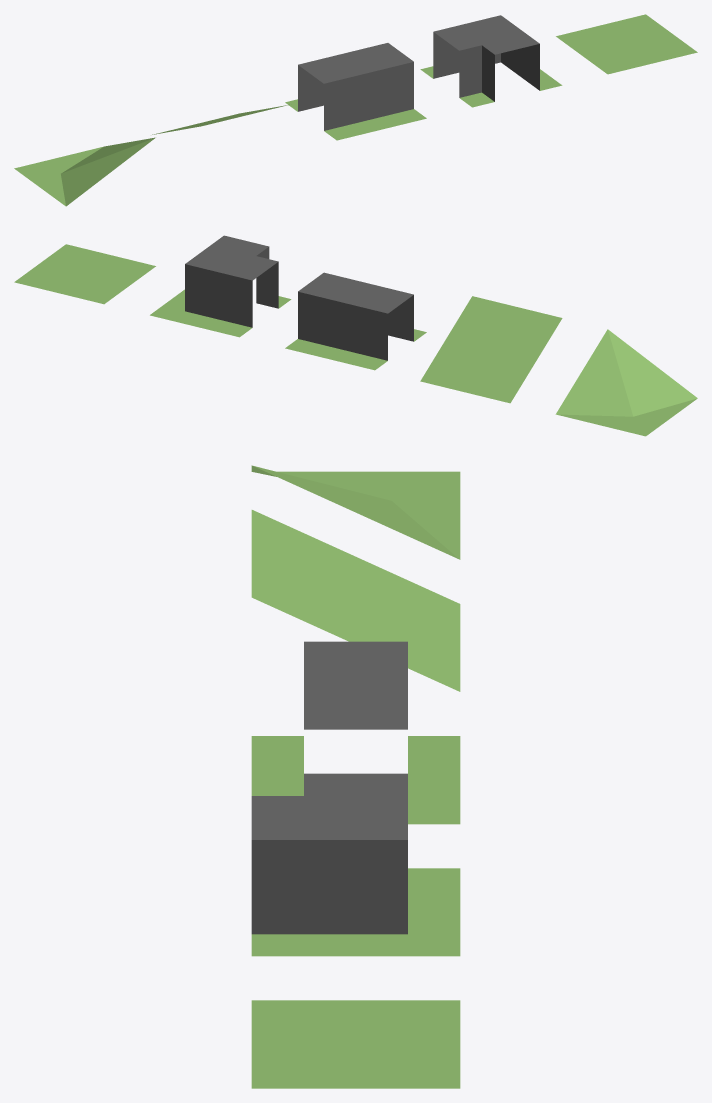
Rendered from Level_Tiles.glb.
3 views of the same model, one above another, from view 1: azimuth 30°, elevation 25°; view 2: azimuth 150°, elevation 25°; view 3: azimuth 270°, elevation 25° (orthographic). The views are drawn at different scales.
Parts seen in each view (by area): view 1: WallStraight, Corner, Floor, SlopeCorner, SlopeStraight; view 2: SlopeStraight, WallStraight, SlopeCorner, Corner, Floor; view 3: Corner, Floor, SlopeStraight, WallStraight, SlopeCorner.
Part boxes in pixels (<box>): WallStraight: <box>285,43,426,140</box>; Corner: <box>420,15,562,107</box>; Floor: <box>556,14,697,74</box>; SlopeCorner: <box>14,137,155,206</box>; SlopeStraight: <box>152,104,289,134</box>; SlopeStraight: <box>420,296,562,403</box>; WallStraight: <box>285,272,426,370</box>; SlopeCorner: <box>555,329,697,436</box>; Corner: <box>150,235,291,337</box>; Floor: <box>14,244,155,304</box>; Corner: <box>251,773,460,956</box>; Floor: <box>251,1000,460,1088</box>; SlopeStraight: <box>251,510,460,691</box>; WallStraight: <box>251,641,460,824</box>; SlopeCorner: <box>251,465,460,559</box>.
Size of the model in its own units: 14 by 1 by 2.
